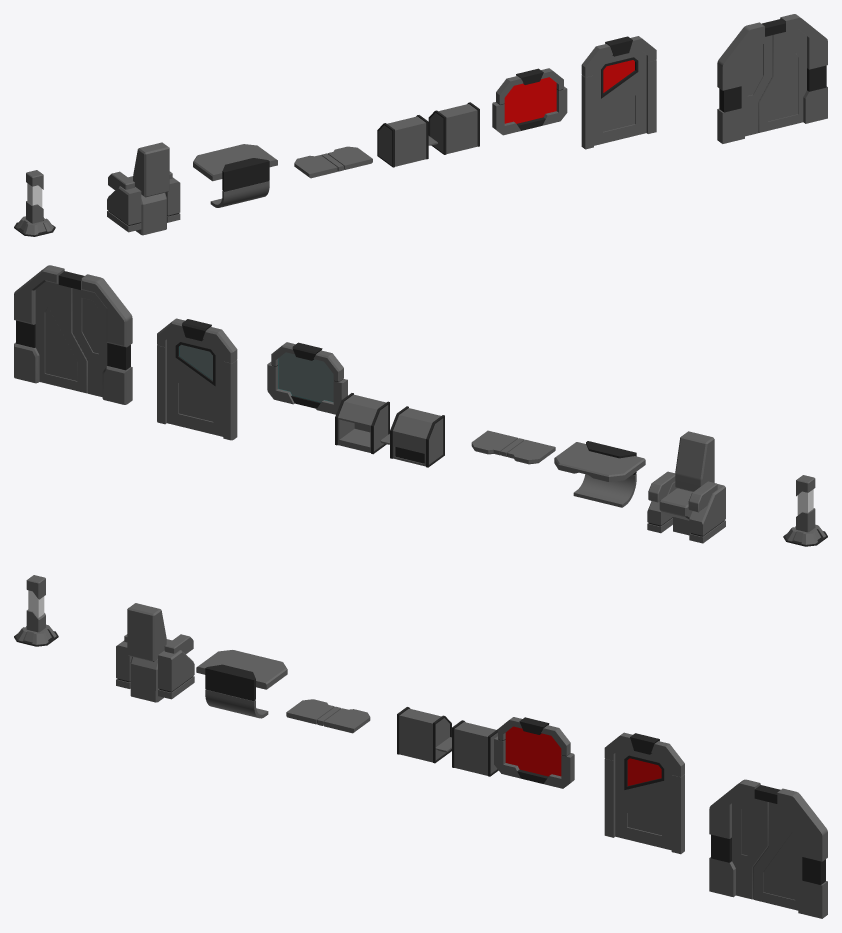
The model's file is SciFiMeshes.fbx.
3 views of the same model, one above another, from view 1: azimuth 30°, elevation 25°; view 2: azimuth 150°, elevation 25°; view 3: azimuth 330°, elevation 25° (orthographic). The views are drawn at different scales.
Visible parts, largest first — view 1: Door1, Door2, Window1, Table, Shelf1, Shelf2, cushionBack, armRestR, BookCase, Lamp, cushionSeat, armRestL; view 2: Door1, Door2, Window1, Table, Shelf1, Shelf2, cushionBack, armRestR, BookCase, Lamp, armRestL, cushionSeat; view 3: Door1, Door2, Window1, Table, Shelf1, Shelf2, cushionBack, armRestL, BookCase, Lamp, cushionSeat, armRestR.
Part boxes in pixels (x1,y1,x2,y2): Door1: (717, 14, 827, 143); Door2: (581, 36, 656, 149); Window1: (492, 68, 567, 135); Table: (193, 144, 277, 207); Shelf1: (377, 115, 428, 167); Shelf2: (428, 102, 479, 154); cushionBack: (133, 142, 169, 197); armRestR: (107, 171, 141, 232); BookCase: (294, 146, 372, 178); Lamp: (14, 170, 55, 236); cushionSeat: (128, 176, 166, 235); armRestL: (165, 171, 180, 222); Door1: (14, 265, 132, 404); Door2: (157, 318, 237, 440); Window1: (267, 342, 347, 414); Table: (554, 441, 645, 507); Shelf1: (390, 406, 444, 467); Shelf2: (335, 393, 389, 454); cushionBack: (675, 431, 714, 491); armRestR: (688, 481, 725, 543); BookCase: (471, 430, 555, 464); Lamp: (783, 475, 827, 546); armRestL: (647, 471, 676, 533); cushionSeat: (659, 488, 692, 535); Door1: (709, 779, 827, 918); Door2: (604, 732, 684, 854); Window1: (494, 717, 574, 788); Table: (196, 650, 287, 718); Shelf1: (397, 707, 451, 763); Shelf2: (452, 720, 498, 776); cushionBack: (127, 603, 166, 661); armRestL: (158, 634, 194, 699); BookCase: (286, 699, 370, 733); Lamp: (14, 575, 58, 646); cushionSeat: (130, 639, 171, 702); armRestR: (116, 634, 131, 688).
Bounding box in the file's own units: 1093 × 155 × 107.
